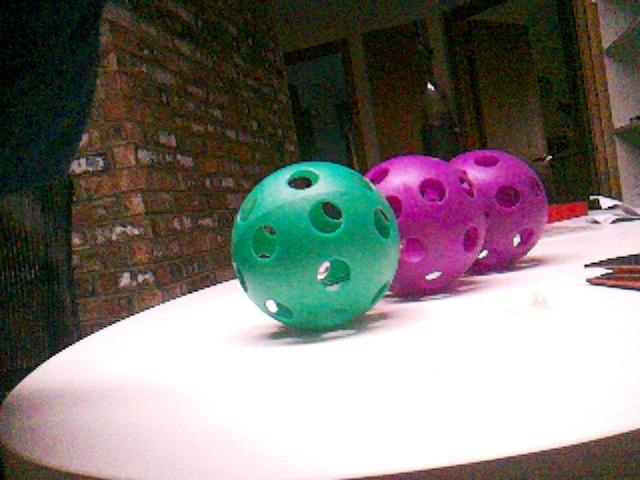Green: (229, 161, 399, 330)
Purple: (364, 156, 482, 295), (449, 150, 549, 270)
